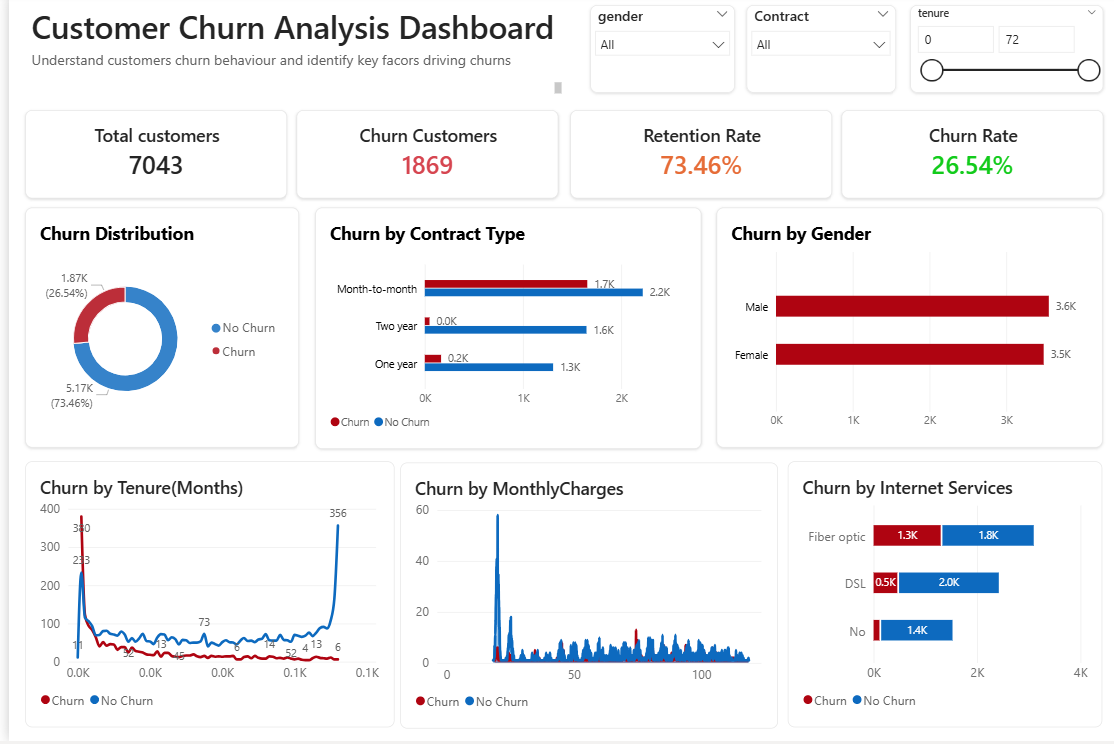

Layout of this report page (visuals, bound fields, positions):
{"tool":"powerbi","page":{"name":"Page 1","canvas":[1260,850],"ordinal":0},"visuals":[{"type":"donutChart","title":"Churn Distribution","fields":{"Category":["churn_final.Column"],"Y":["CountNonNull(churn_final.customerID)"]},"box":[18.3,241.7,311.7,273.3],"z":0},{"type":"card","title":"Total customers","fields":{"Values":["CountNonNull(churn_final.customerID)"]},"box":[17.9,131.5,298.7,100.6],"z":1000},{"type":"clusteredBarChart","fields":{"Category":["churn_final.Contract"],"Series":["churn_final.Column"],"Y":["CountNonNull(churn_final.customerID)"]},"box":[348.3,241.7,440,275],"z":2000},{"type":"barChart","title":"Churn by Gender","fields":{"Category":["churn_final.gender"],"Y":["CountNonNull(churn_final.customerID)"]},"box":[806.7,241.7,440,273.3],"z":3000},{"type":"textbox","box":[0,0,662.3,61.7],"z":6000},{"type":"lineChart","title":"Churn by Tenure(Months)","fields":{"Category":["churn_final.tenure"],"Series":["churn_final.churn_status"],"Y":["CountNonNull(churn_final.customerID)"]},"box":[17.9,530.8,420.4,303.6],"z":8000},{"type":"areaChart","title":"Churn by MonthlyCharges","fields":{"Category":["churn_final.MonthlyCharges"],"Series":["churn_final.churn_status"],"Y":["CountNonNull(churn_final.customerID)"]},"box":[446.4,532.4,430.2,303.6],"z":9000},{"type":"barChart","title":"Churn by Internet Services","fields":{"Category":["churn_final.InternetService"],"Series":["churn_final.churn_status"],"Y":["churn_final.Measure"]},"box":[888,530.8,358.8,303.6],"z":10000},{"type":"textbox","title":"Customer Churn Analysis Dashboard","box":[26,11.4,603.9,100.6],"z":13000},{"type":"slicer","fields":{"Values":["churn_final.gender"]},"box":[661.7,11.7,165,100],"z":14000},{"type":"slicer","fields":{"Values":["churn_final.Contract"]},"box":[840,11.7,170,100],"z":14001},{"type":"slicer","fields":{"Values":["churn_final.tenure"]},"box":[1026.7,11.7,220,100],"z":14002},{"type":"card","title":"Churn Customers","fields":{"Values":["churn_final.Churn Customers"]},"box":[327.9,131.5,298.7,100.6],"z":14003},{"type":"card","title":"Retention Rate","fields":{"Values":["churn_final.Retention_Rate"]},"box":[639.6,131.5,298.7,100.6],"z":14004},{"type":"card","title":"Churn Rate","fields":{"Values":["churn_final.Churn Rate"]},"box":[948,131.5,298.7,100.6],"z":14005}]}

Visuals, with their boxes in screenshot pixels (x1, y1, x2, y2), scaled from the page's 1260x850 canvas onto the 1114x744 screenshot:
"Churn Distribution" donutChart: box(16, 212, 292, 451)
"Total customers" card: box(16, 115, 280, 203)
clusteredBarChart - churn_final.Contract x churn_final.Column: box(308, 212, 697, 452)
"Churn by Gender" barChart: box(713, 212, 1102, 451)
textbox: box(0, 0, 586, 54)
"Churn by Tenure(Months)" lineChart: box(16, 465, 388, 730)
"Churn by MonthlyCharges" areaChart: box(395, 466, 775, 732)
"Churn by Internet Services" barChart: box(785, 465, 1102, 730)
"Customer Churn Analysis Dashboard" textbox: box(23, 10, 557, 98)
slicer - churn_final.gender: box(585, 10, 731, 98)
slicer - churn_final.Contract: box(743, 10, 893, 98)
slicer - churn_final.tenure: box(908, 10, 1102, 98)
"Churn Customers" card: box(290, 115, 554, 203)
"Retention Rate" card: box(565, 115, 830, 203)
"Churn Rate" card: box(838, 115, 1102, 203)
